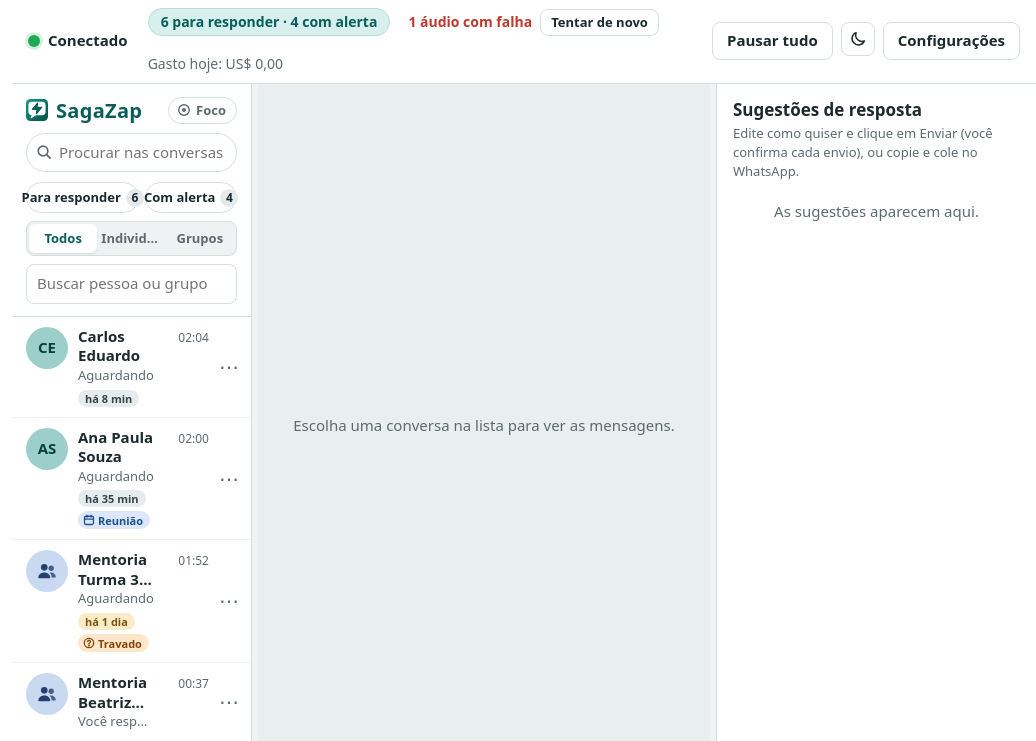
Test: conversa que não precisa de resposta: sugestões só quando o mentor pede › conversa esperando resposta: continua gerando sozinha
The width and height of the screenshot is (1036, 741).
Expected: the text "Ana Paula Souza" is shown, [78,428,155,467]
Step 1. Click the button "Ana Paula Souza" → (112, 478), box [12,418,213,539]
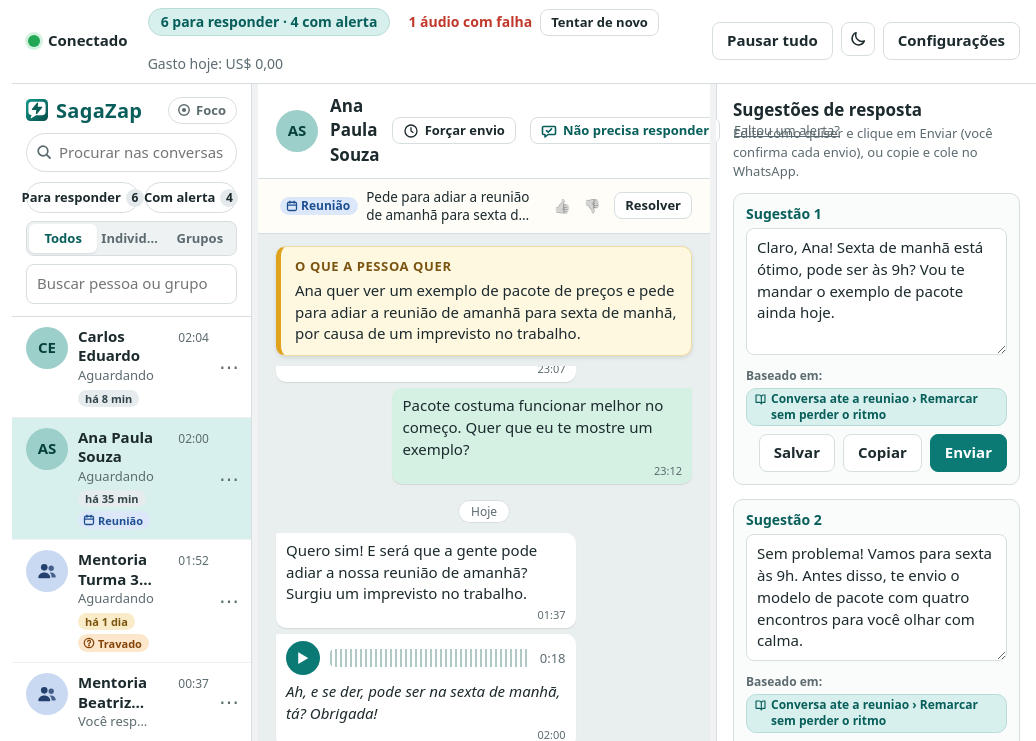
Now the text box labelled "Sugestão 1" is shown, box [746,228,1007,355]
